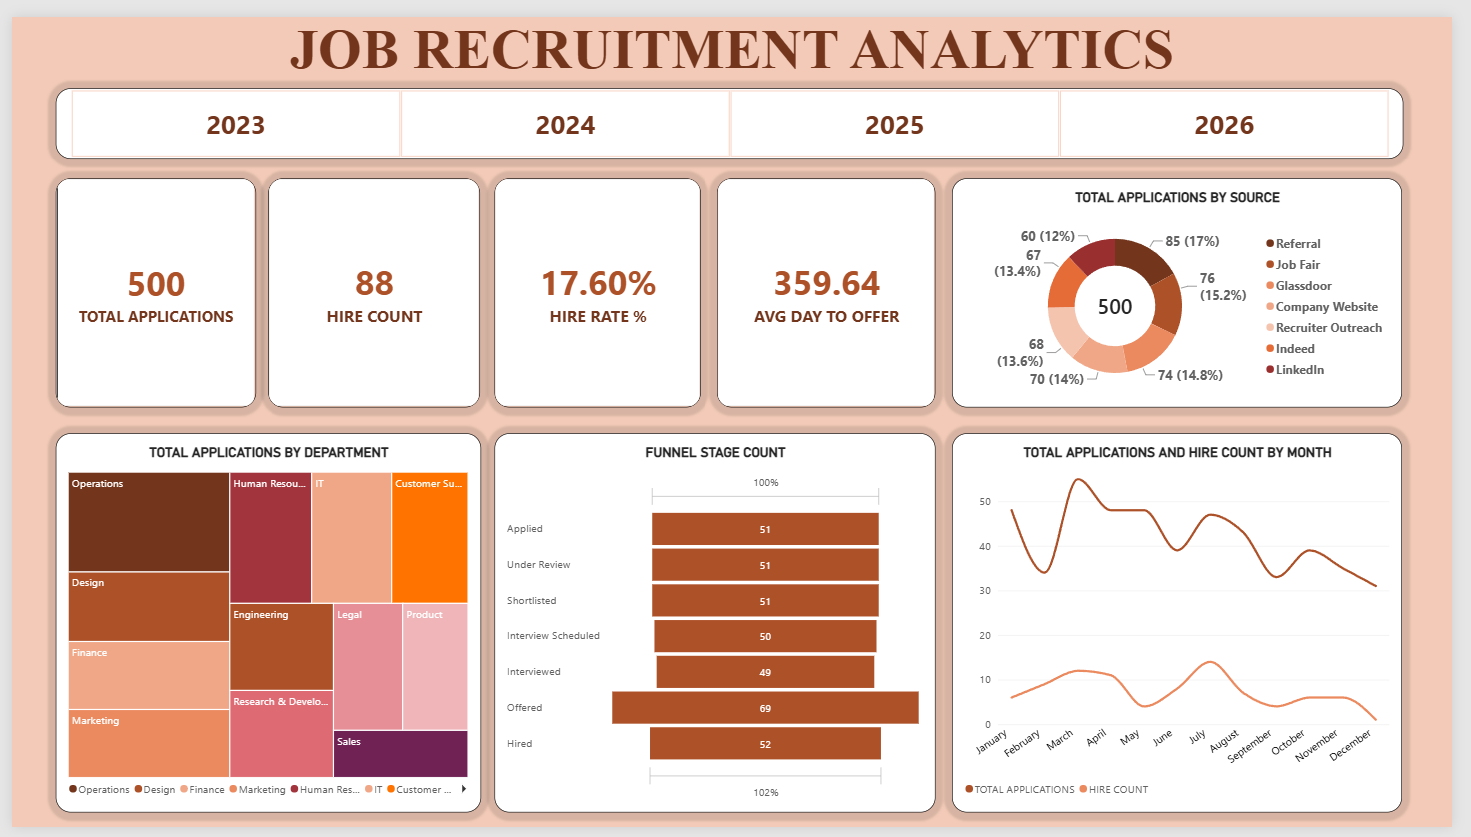

Layout of this report page (visuals, bound fields, positions):
{"tool":"powerbi","page":{"name":"EXECUTIVE OVERVIEW","canvas":[1920,1080],"ordinal":0},"visuals":[{"type":"cardVisual","fields":{"Data":["Applications.TOTAL APPLICATIONS"]},"box":[57.6,214.5,266.9,305.2],"z":0},{"type":"cardVisual","fields":{"Data":["Applications.AVG DAY TO OFFER"]},"box":[940.1,214.5,291.3,305.2],"z":1000},{"type":"cardVisual","fields":{"Data":["Applications.HIRE RATE %"]},"box":[643.6,214.5,275.6,305.2],"z":2000},{"type":"cardVisual","fields":{"Data":["Applications.HIRE COUNT"]},"box":[341.9,214.5,282.6,305.2],"z":3000},{"type":"treemap","title":"TOTAL APPLICATIONS BY DEPARTMENT","fields":{"Group":["Jobs.Department"],"Values":["Applications.TOTAL APPLICATIONS"]},"box":[57.6,554.7,566.9,505.8],"z":4000},{"type":"lineChart","title":"TOTAL APPLICATIONS AND HIRE COUNT BY MONTH","fields":{"Category":["Applications.ApplicationDate.Variation.Date Hierarchy.Month"],"Y":["Applications.TOTAL APPLICATIONS","Applications.HIRE COUNT"]},"box":[1254.1,554.7,600,505.8],"z":5000},{"type":"donutChart","title":"TOTAL APPLICATIONS BY SOURCE","fields":{"Category":["Applications.Source"],"Y":["Applications.TOTAL APPLICATIONS"]},"box":[1254.1,214.5,600,305.2],"z":6000},{"type":"slicer","fields":{"Values":["Applications.ApplicationDate.Variation.Date Hierarchy.Year"]},"box":[57.6,94.2,1796.5,94.2],"z":7000},{"type":"textbox","title":"JOB RECRUITMENT ANALYTICS ","box":[0,0,1920,80],"z":8000},{"type":"funnel","title":"FUNNEL STAGE COUNT ","fields":{"Category":["FunnelStages.Stage"],"Y":["Applications.Funnel Stage Count"]},"box":[643.6,554.7,587.8,505.8],"z":9000}]}

Visuals, with their boxes in screenshot pixels (x1, y1, x2, y2), scaled from the page's 1920x1080 canvas onto the 1471x837 screenshot:
cardVisual - Applications.TOTAL APPLICATIONS: l=44, t=166, r=249, b=403
cardVisual - Applications.AVG DAY TO OFFER: l=720, t=166, r=943, b=403
cardVisual - Applications.HIRE RATE %: l=493, t=166, r=704, b=403
cardVisual - Applications.HIRE COUNT: l=262, t=166, r=478, b=403
"TOTAL APPLICATIONS BY DEPARTMENT" treemap: l=44, t=430, r=478, b=822
"TOTAL APPLICATIONS AND HIRE COUNT BY MONTH" lineChart: l=961, t=430, r=1421, b=822
"TOTAL APPLICATIONS BY SOURCE" donutChart: l=961, t=166, r=1421, b=403
slicer - Applications.ApplicationDate.Variation.Date Hierarchy.Year: l=44, t=73, r=1421, b=146
"JOB RECRUITMENT ANALYTICS " textbox: l=0, t=0, r=1470, b=62
"FUNNEL STAGE COUNT " funnel: l=493, t=430, r=943, b=822
